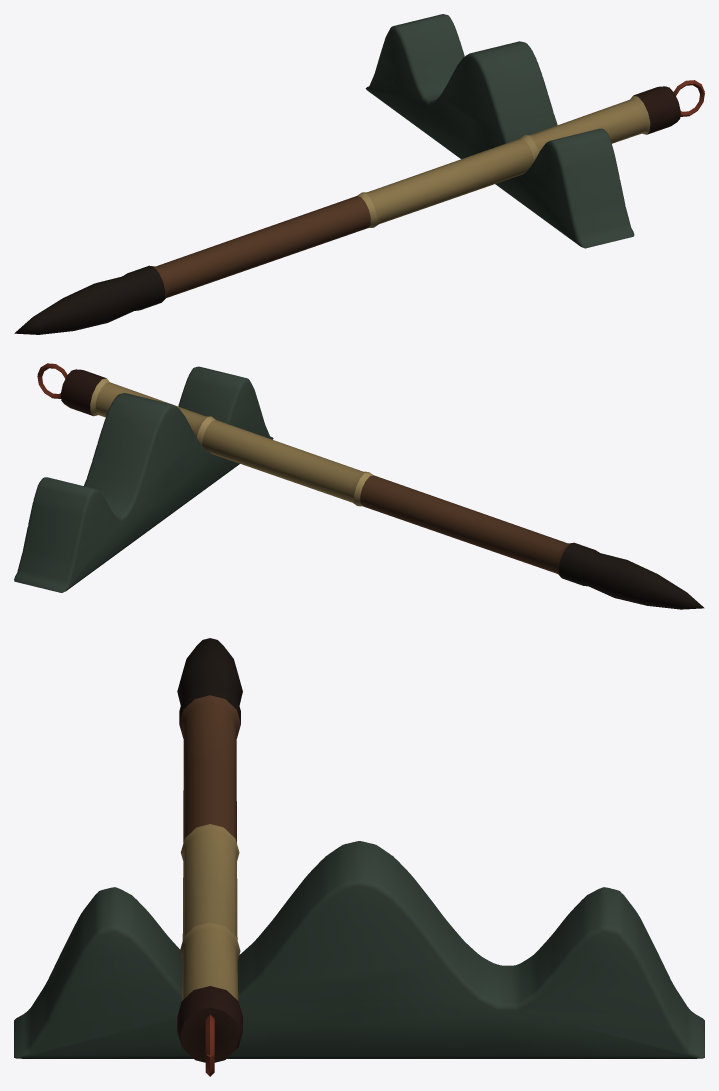
Rendered from brush.glb.
3 views of the same model, one above another, from view 1: azimuth 30°, elevation 25°; view 2: azimuth 150°, elevation 25°; view 3: azimuth 270°, elevation 25° (orthographic). The views are drawn at different scales.
Parts seen in each view (by area): view 1: base; view 2: base; view 3: base.
Part boxes in pixels (x1=…): base: x1=14, y1=14, x2=704, y2=334; base: x1=14, y1=363, x2=704, y2=609; base: x1=14, y1=638, x2=704, y2=1076.
Size of the model in its own units: 0.2526 by 0.0454 by 0.1388.
